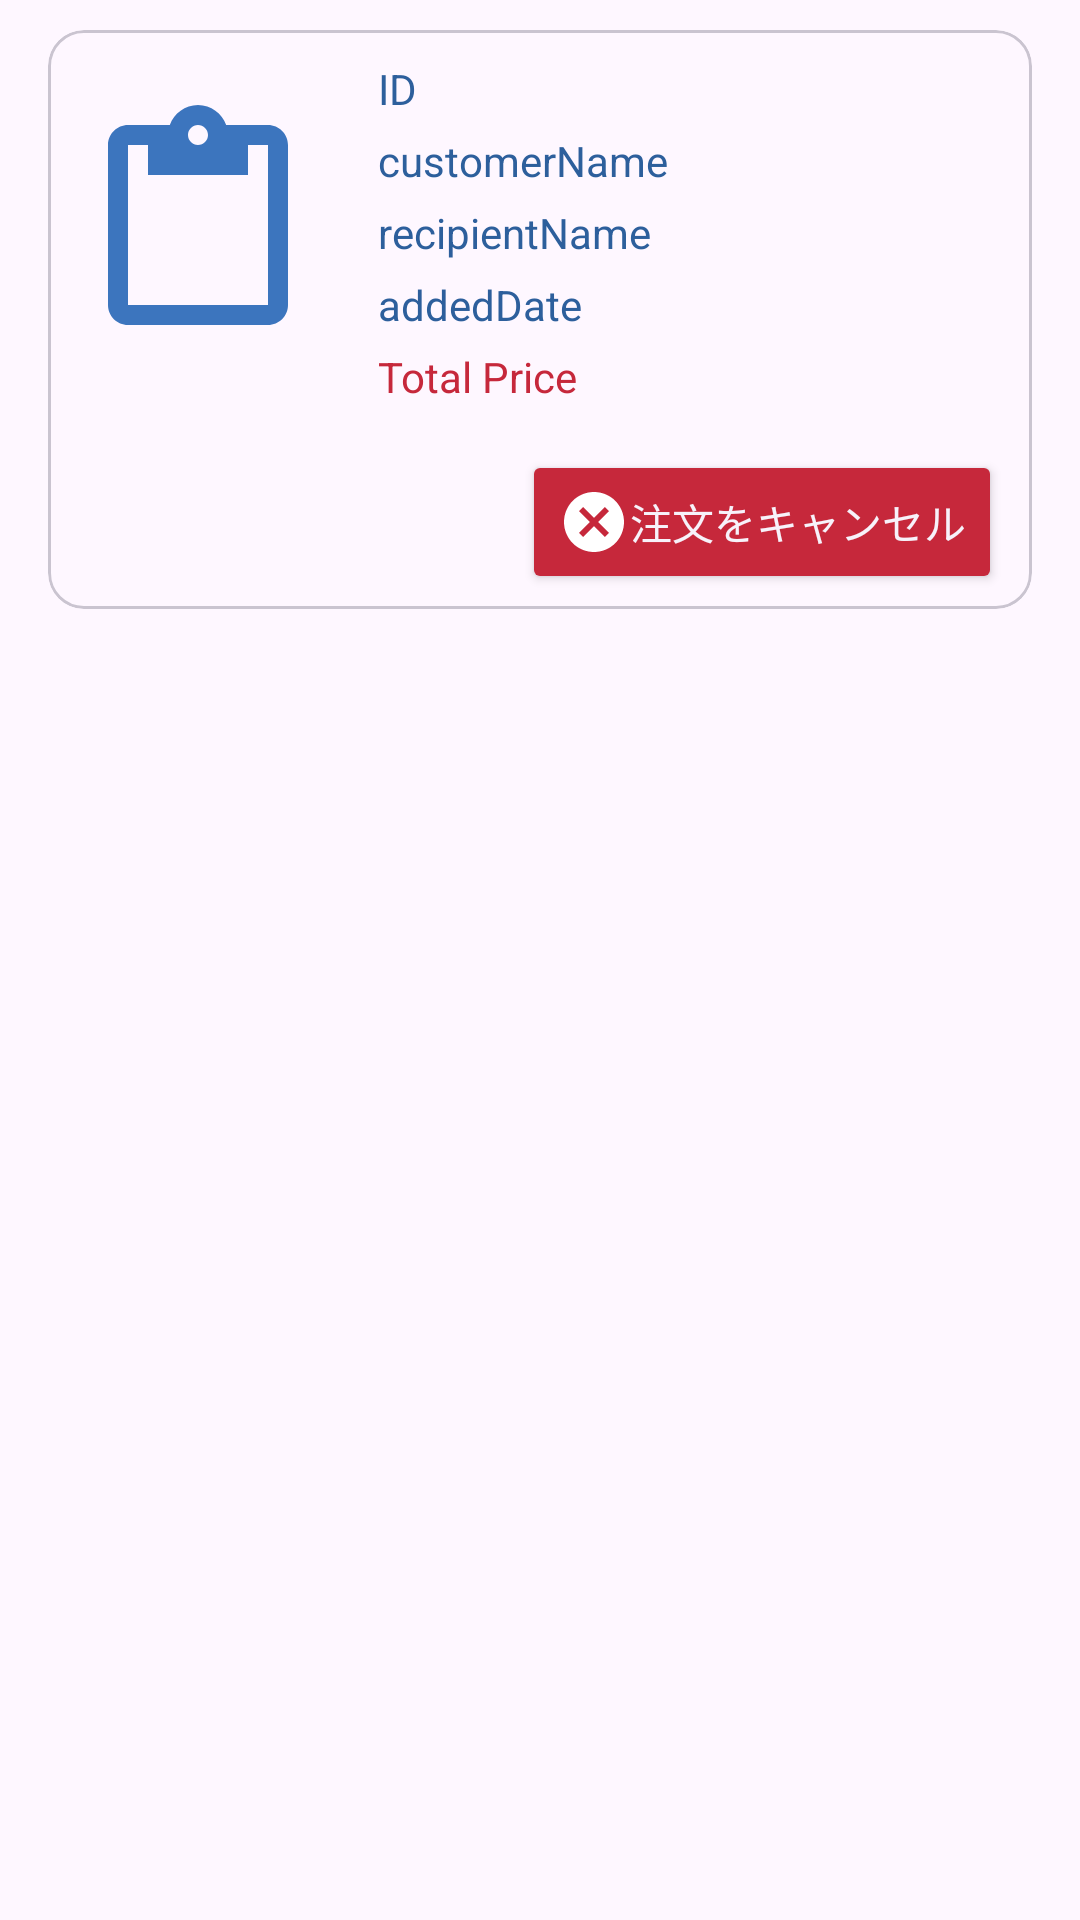

Named icons in this screenshot (1080*1920) and their centers, point (x, y):
order: point (198, 215)
